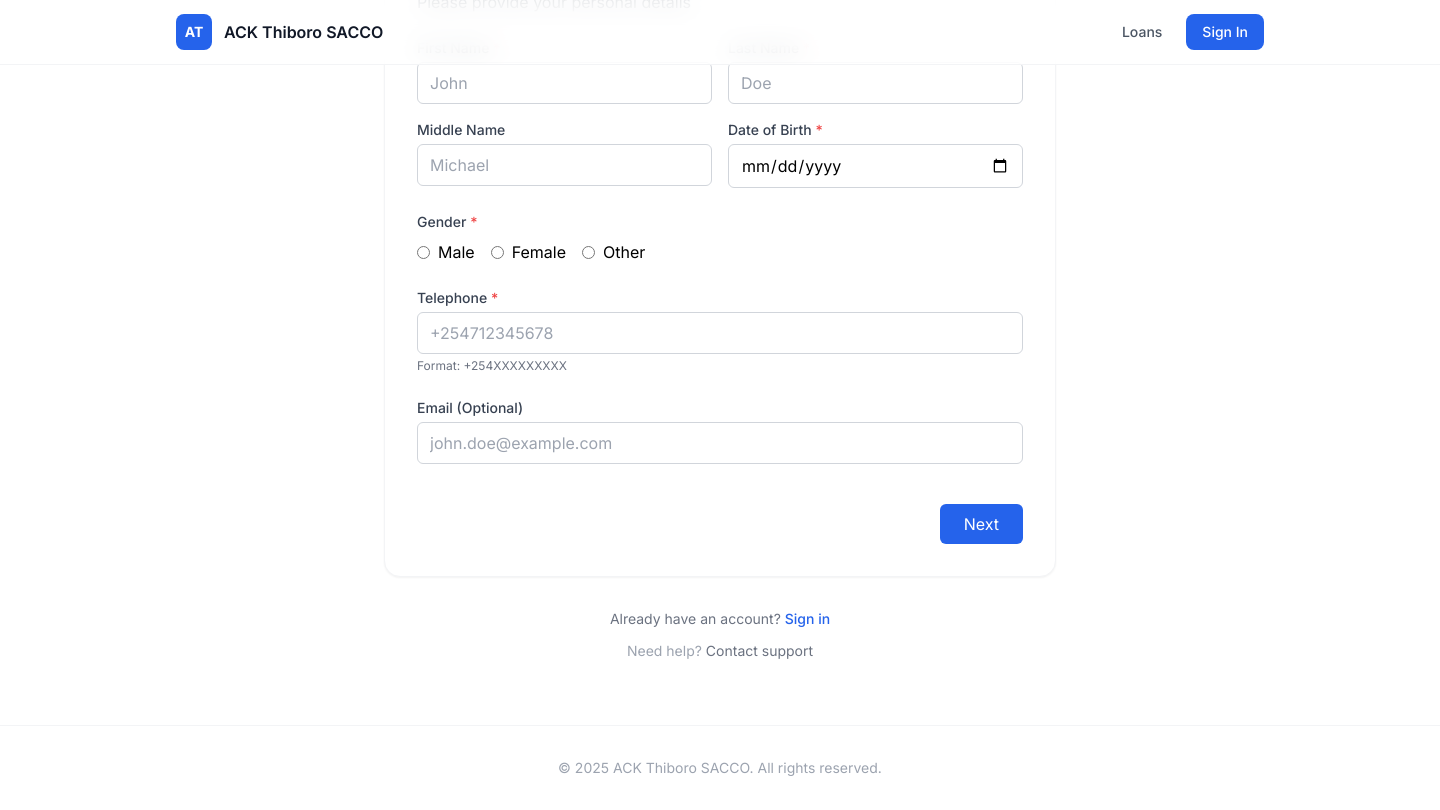
Member Registration Wizard › Step 1 - Personal Information › should validate required fields on step 1
This screenshot has width=1440, height=810.
(page scrolled)
Click the button "Next".
click(981, 524)  # box [940,504,1023,544]
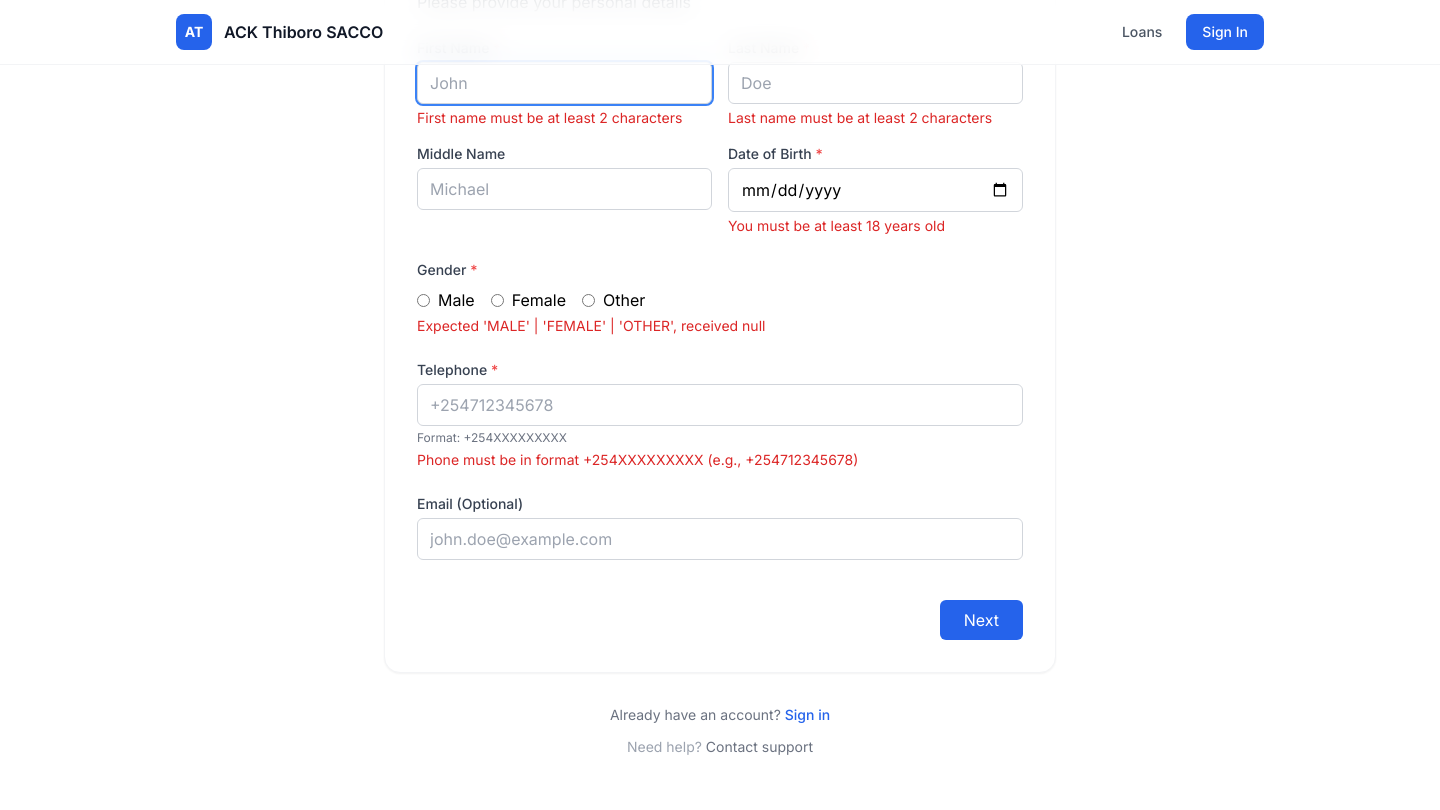
Now the text "First name must be at least 2 characters" is shown, box [417,108,712,128]
Now the text "Last name must be at least 2 characters" is shown, box [728,108,1023,128]
